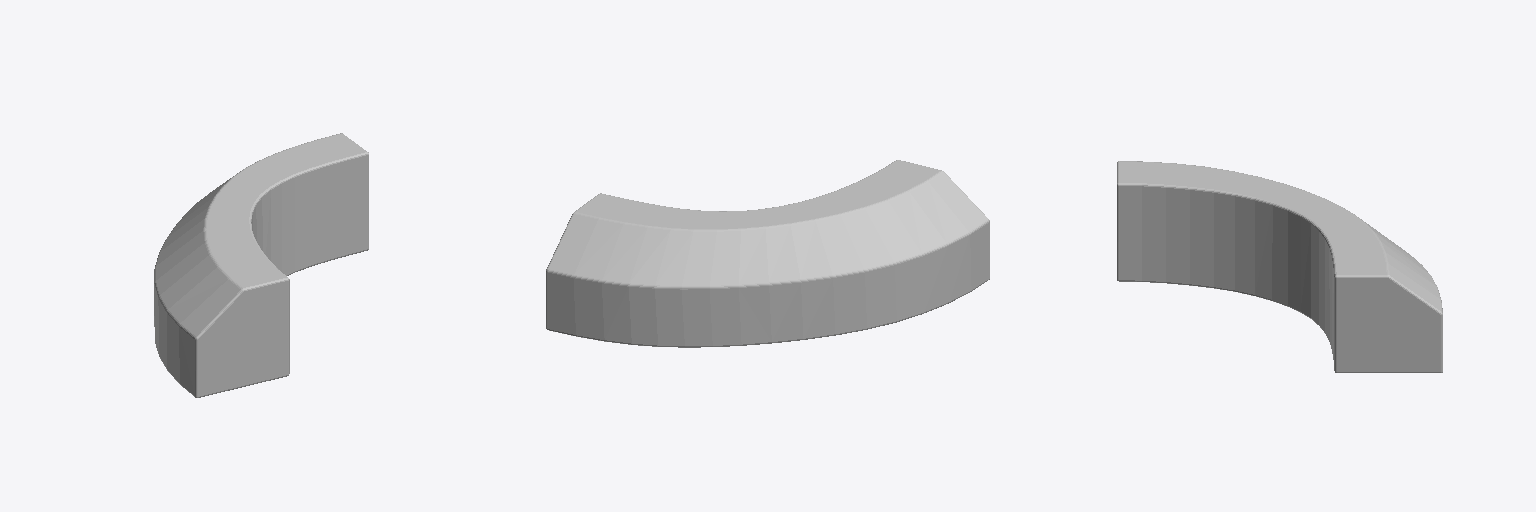
Rendered from Inside_Bend_HP.obj.
3 renders of one model, left to right at view 1: azimuth 30°, elevation 25°; view 2: azimuth 150°, elevation 25°; view 3: azimuth 270°, elevation 25°, orthographic.
Parts seen in each view (by area): view 1: Inside_Bend_HP; view 2: Inside_Bend_HP; view 3: Inside_Bend_HP.
Boxes of the visible parts, x1=… form: Inside_Bend_HP: x1=154, y1=133, x2=368, y2=397; Inside_Bend_HP: x1=546, y1=160, x2=989, y2=347; Inside_Bend_HP: x1=1117, y1=161, x2=1442, y2=372.
Size of the model in its own units: 3 by 1 by 3.